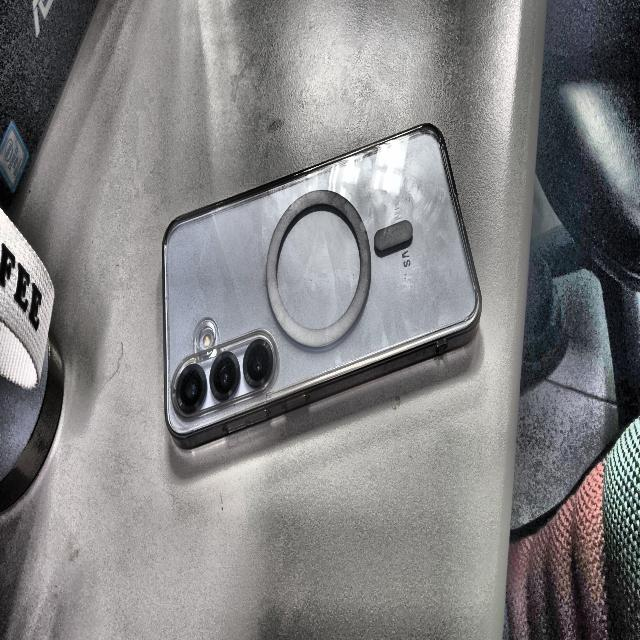PHONE: (162, 125, 481, 447)
